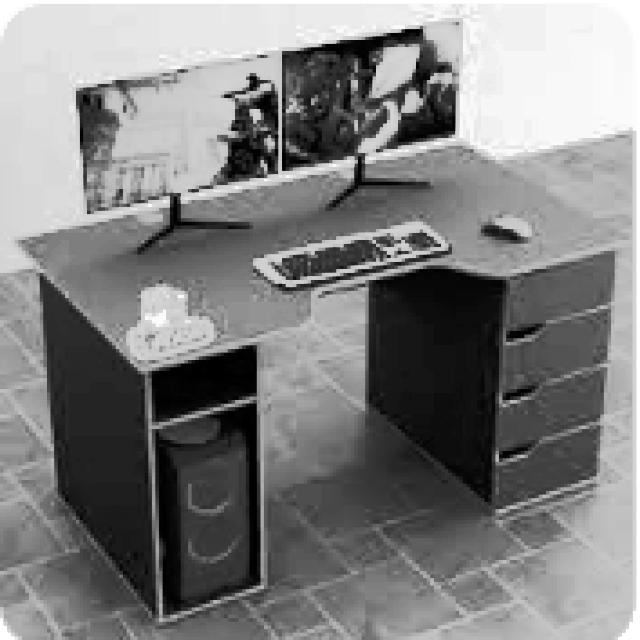table: (11, 134, 629, 626)
